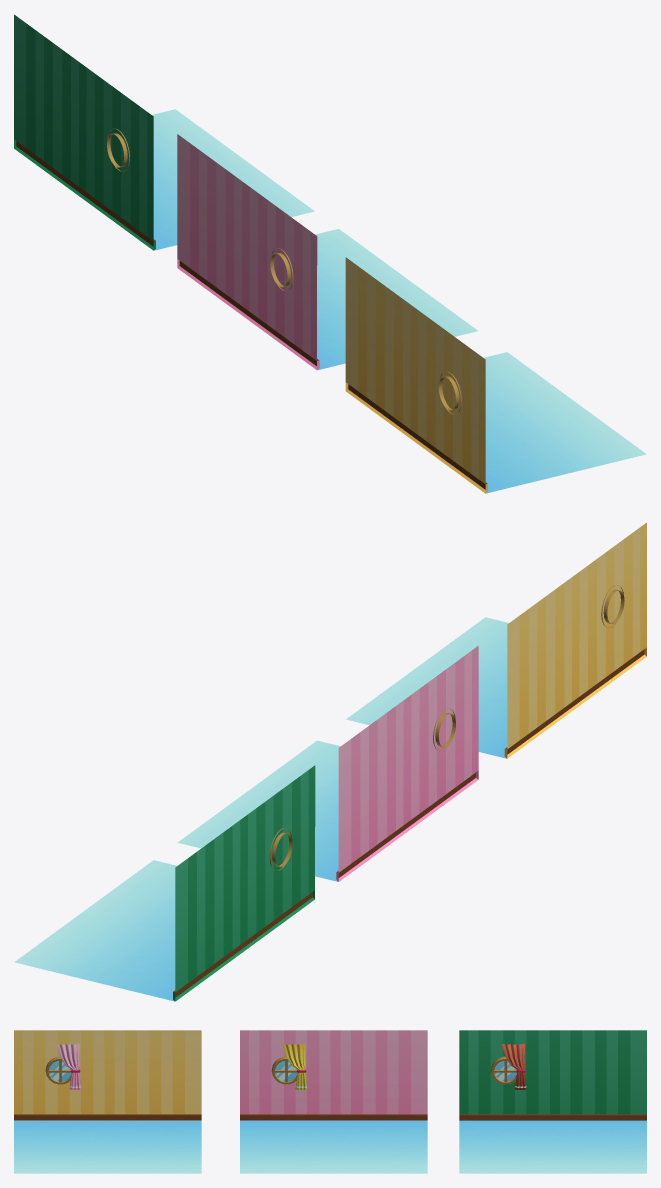
Rendered from Background.FBX.
3 views of the same model, one above another, from view 1: azimuth 30°, elevation 25°; view 2: azimuth 150°, elevation 25°; view 3: azimuth 270°, elevation 25° (orthographic). The views are drawn at different scales.
Visible parts, largest first — view 1: Background01, Background02, Background03; view 2: Background03, Background01, Background02; view 3: Background01, Background02, Background03.
Part boxes in pixels (x1,y1,x2,y2): Background01: [345, 257, 646, 493]; Background02: [177, 134, 477, 370]; Background03: [14, 14, 314, 250]; Background03: [14, 765, 315, 1001]; Background01: [346, 522, 646, 758]; Background02: [177, 646, 478, 881]; Background01: [14, 1030, 201, 1173]; Background02: [240, 1030, 427, 1173]; Background03: [459, 1030, 646, 1173].
Size of the model in its own units: 238 by 185 by 1177.
